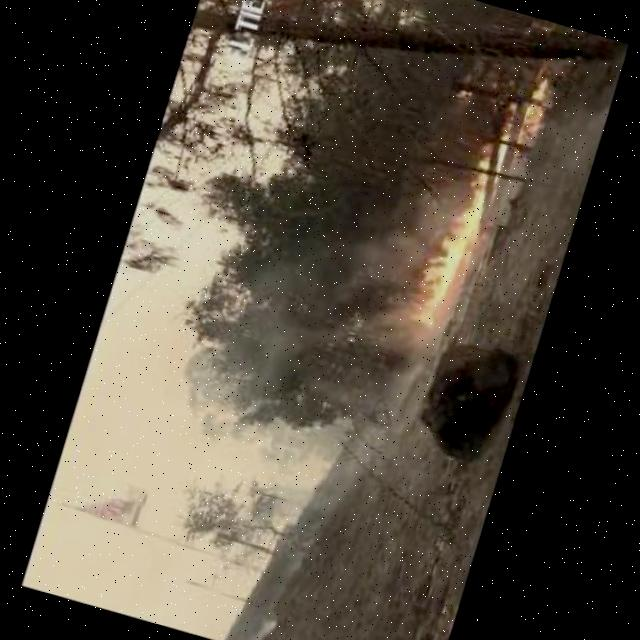fire: (408, 120, 510, 329), (516, 80, 552, 142)
